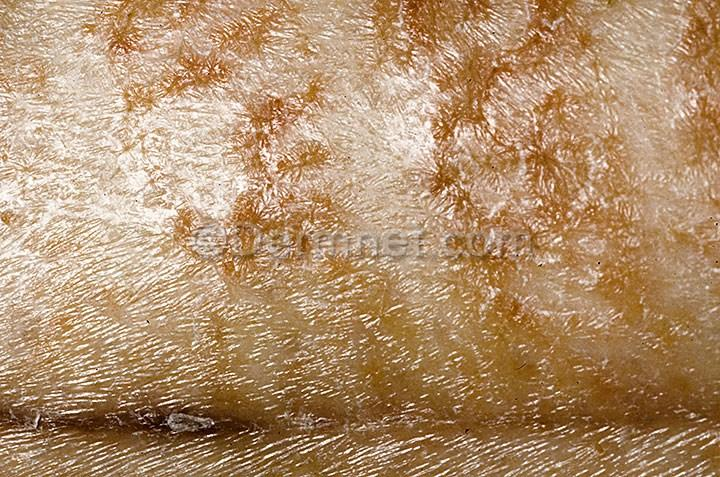Eczema: (219, 239, 492, 477), (231, 0, 497, 239), (0, 236, 238, 466), (504, 0, 720, 229), (0, 0, 211, 223), (539, 226, 720, 477)
